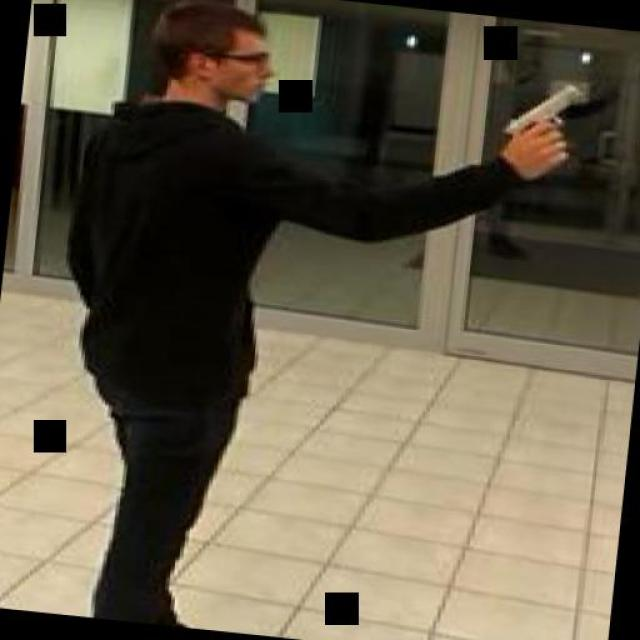gun: (493, 74, 588, 162)
